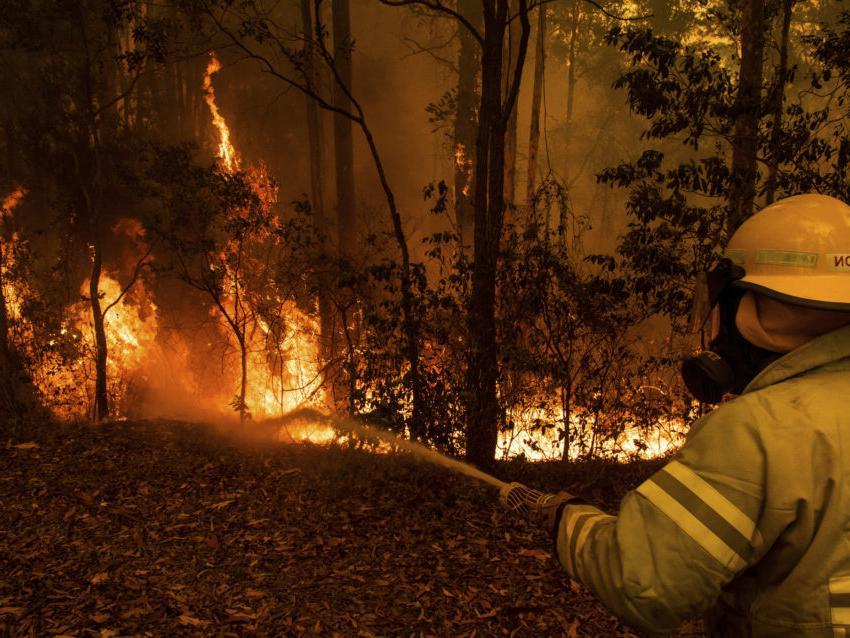Fire: (201, 54, 395, 453), (4, 192, 154, 427), (495, 381, 705, 465)
